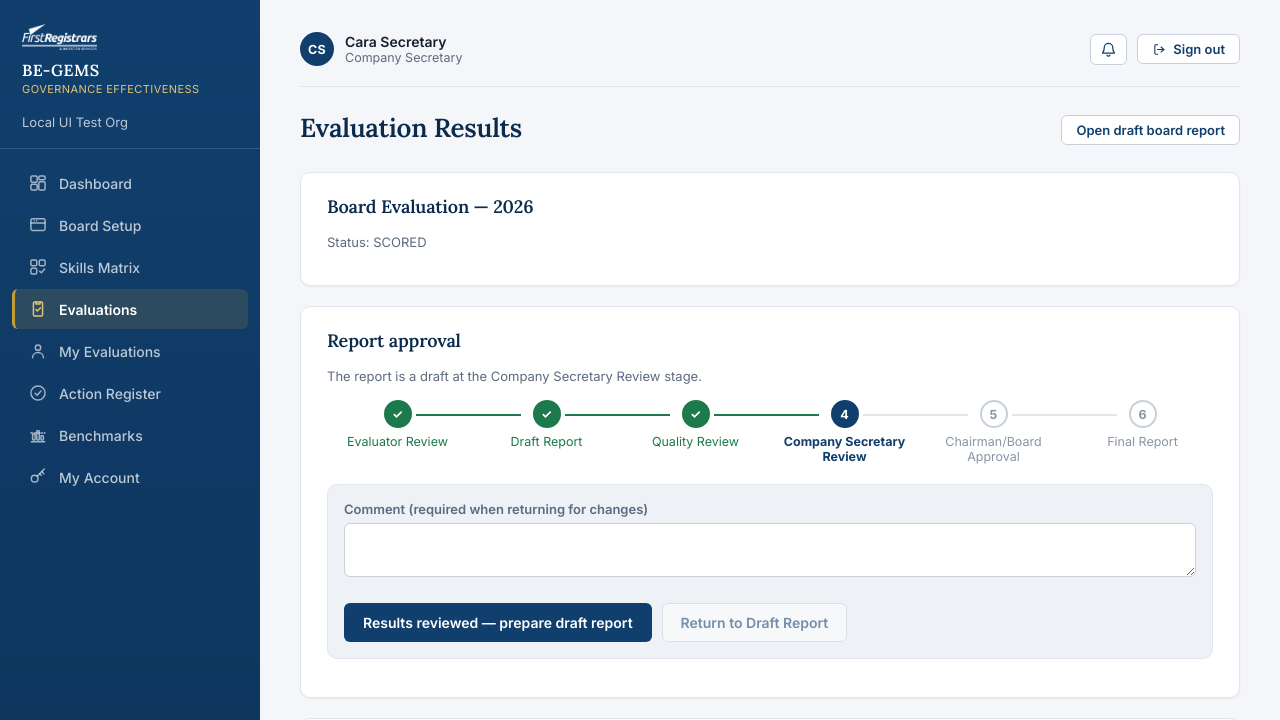
EvaluationResultsPage › requires a comment before returning the report for changes
The width and height of the screenshot is (1280, 720).
expect the button "Return to Draft Report" is disabled: met, box [662,603,847,642]
Type "Add the committee commentary" into the text box labelled "Comment (required when returning for changes)" at (770, 550), box [344,523,1196,577]
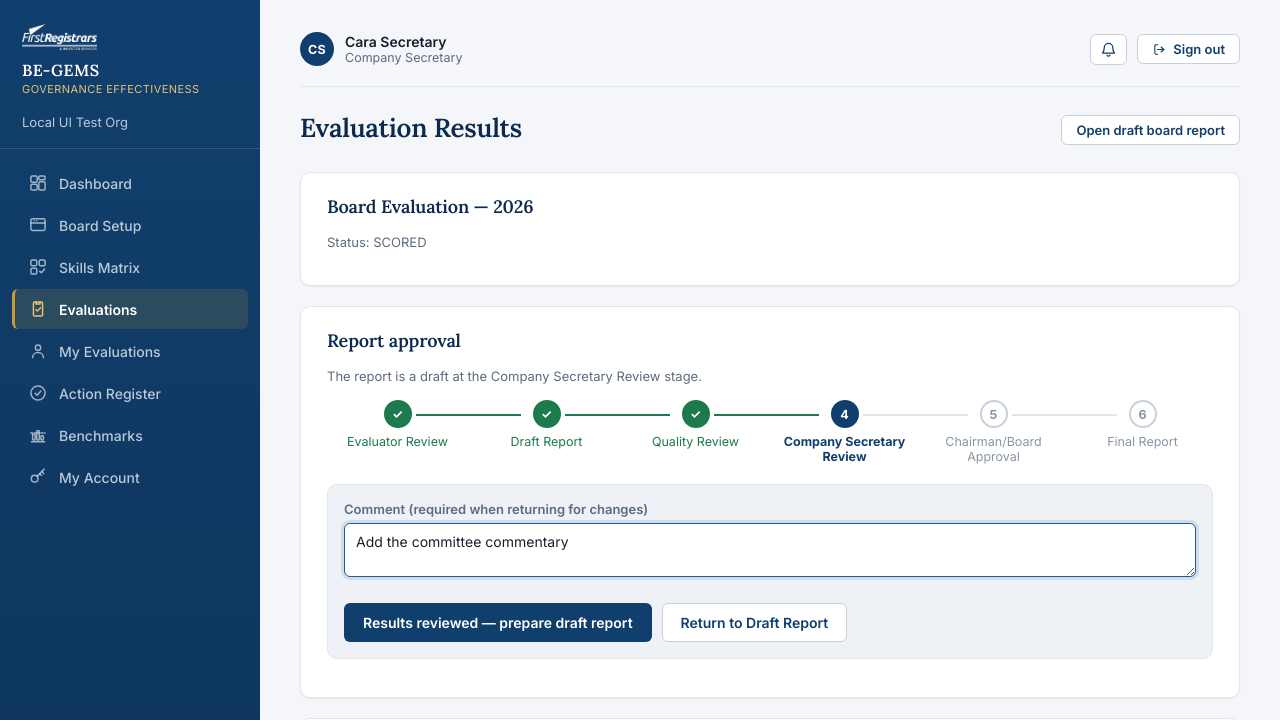
Click the button "Return to Draft Report" at (754, 622), box [662,603,847,642]
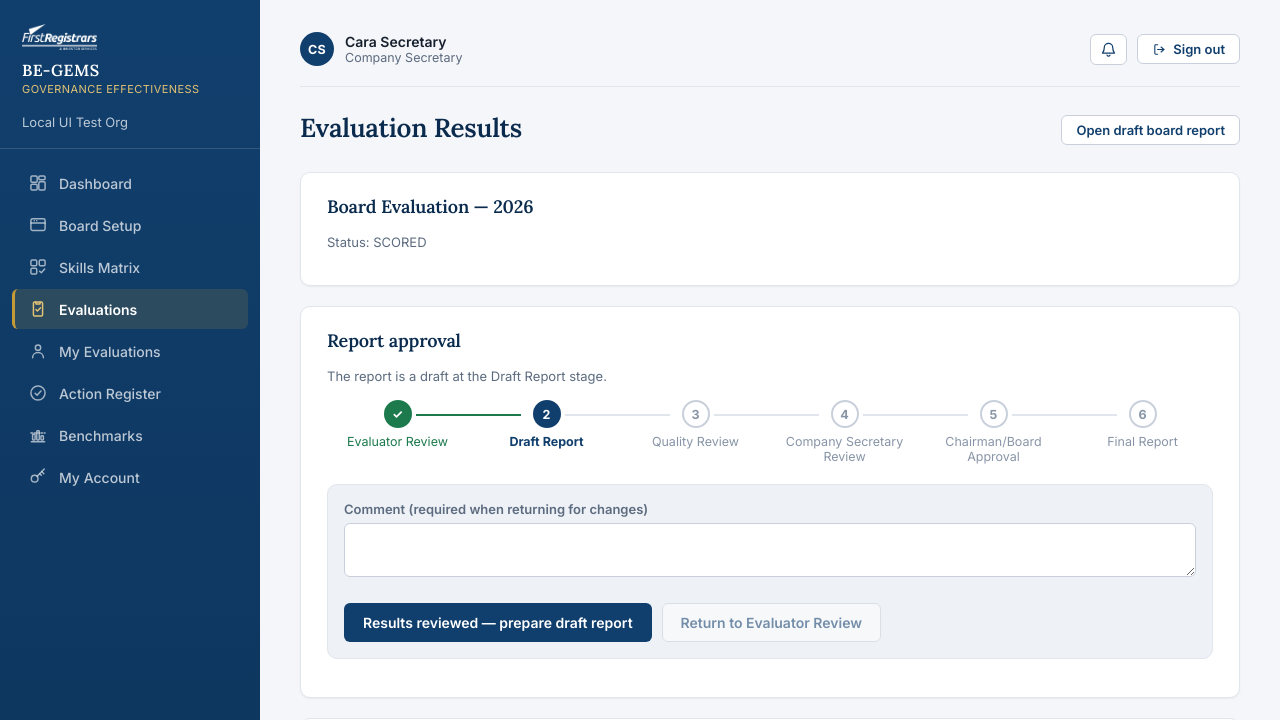
expect the text "The report is a draft at the Draft Report stage." is shown: met, box [327,368,607,384]
